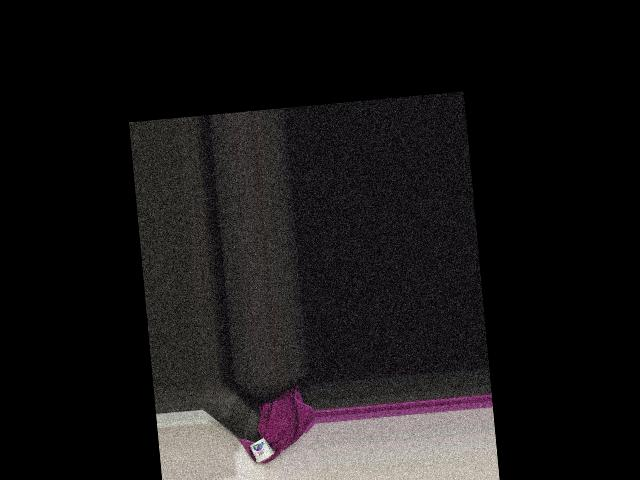cotage: (250, 437, 274, 464)
